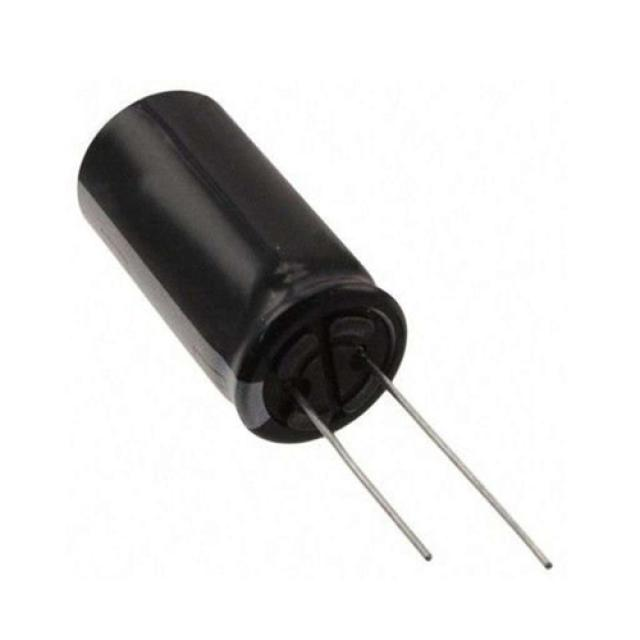Capacitor: (77, 91, 553, 568)
